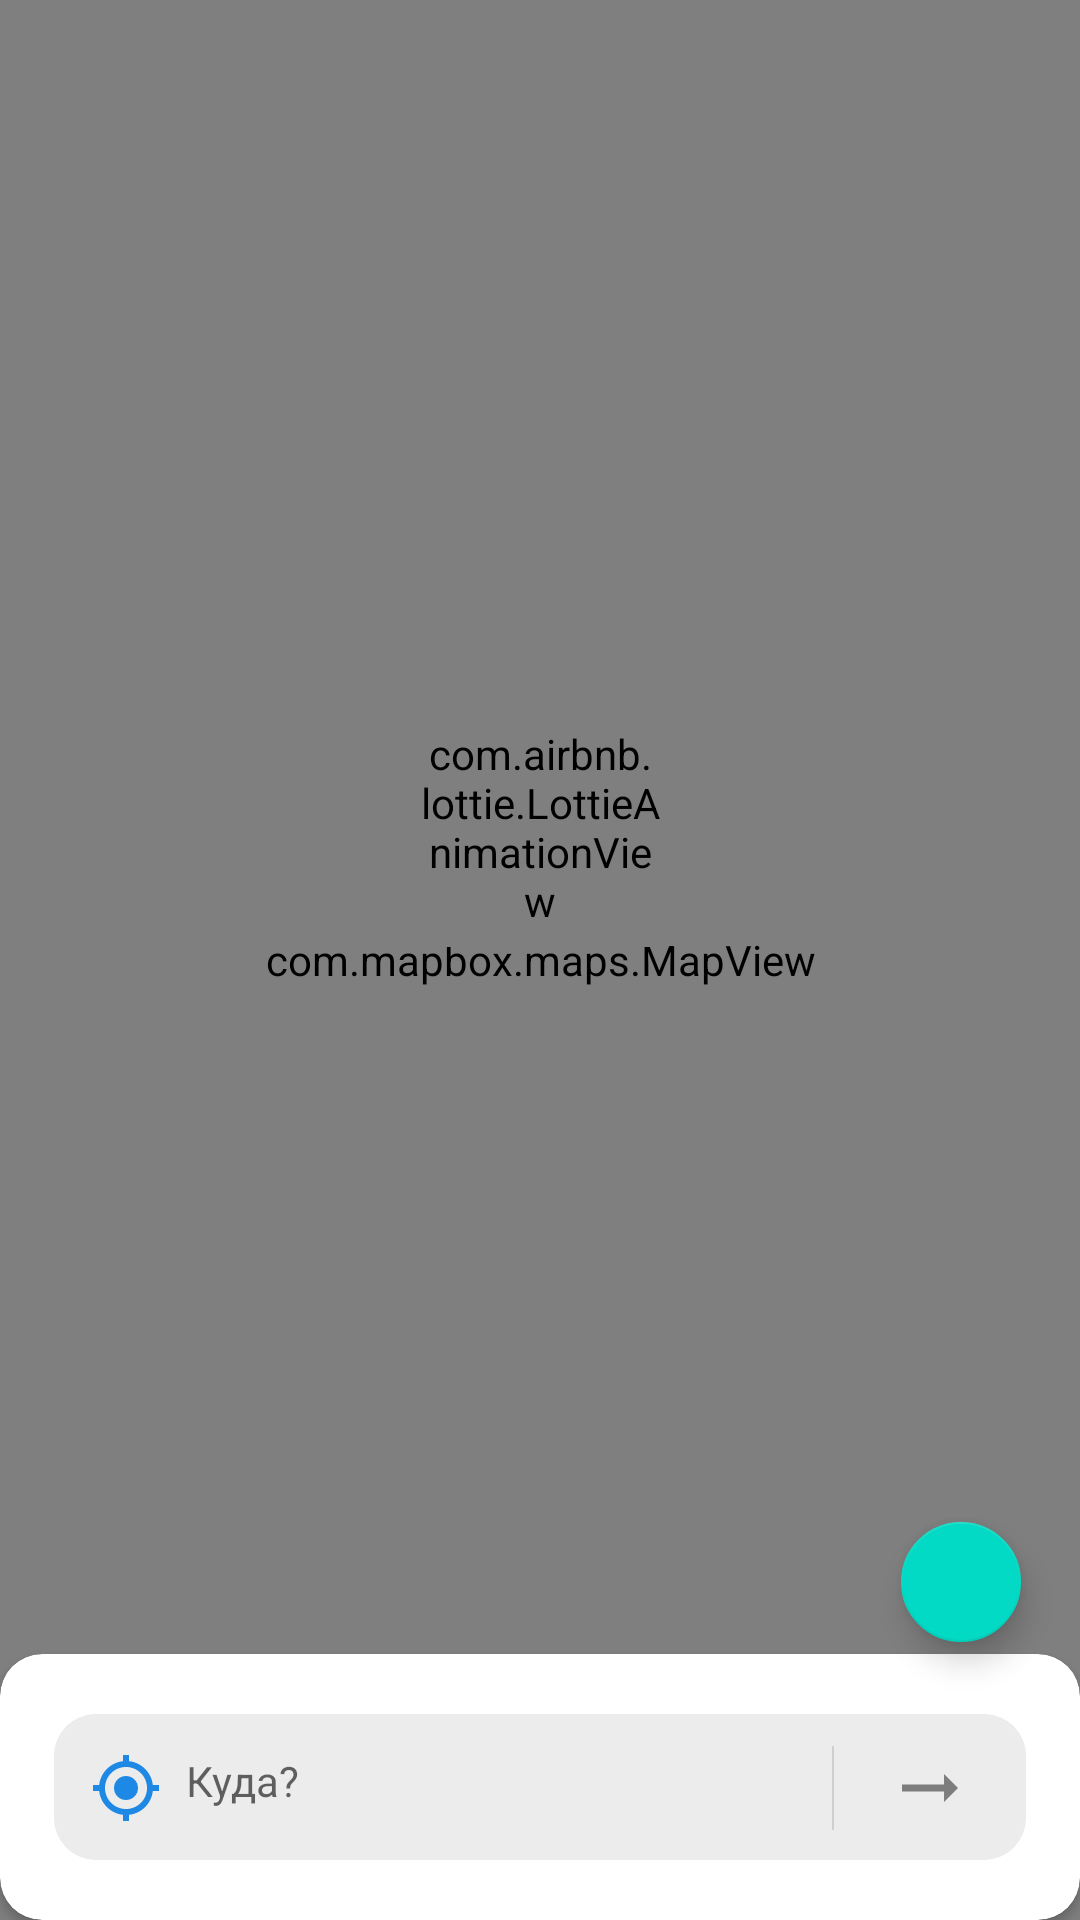

Screen size 1080 × 1920. Icon name, then its box in pixels as (x1, y1, x2, y2):
arrow right: (834, 1716, 1026, 1860)
